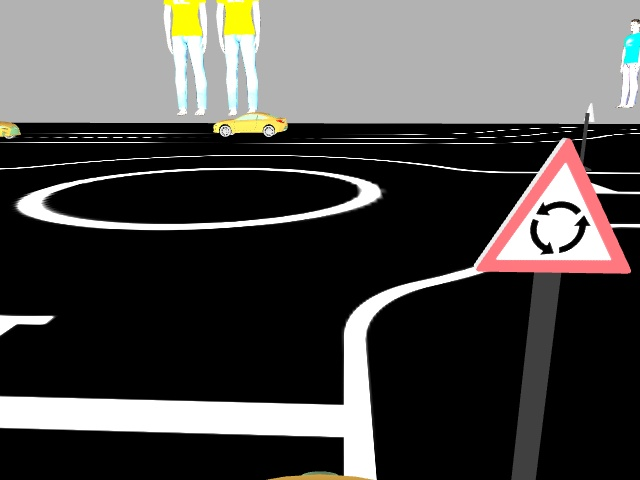Roundabout: (476, 138, 633, 275)
